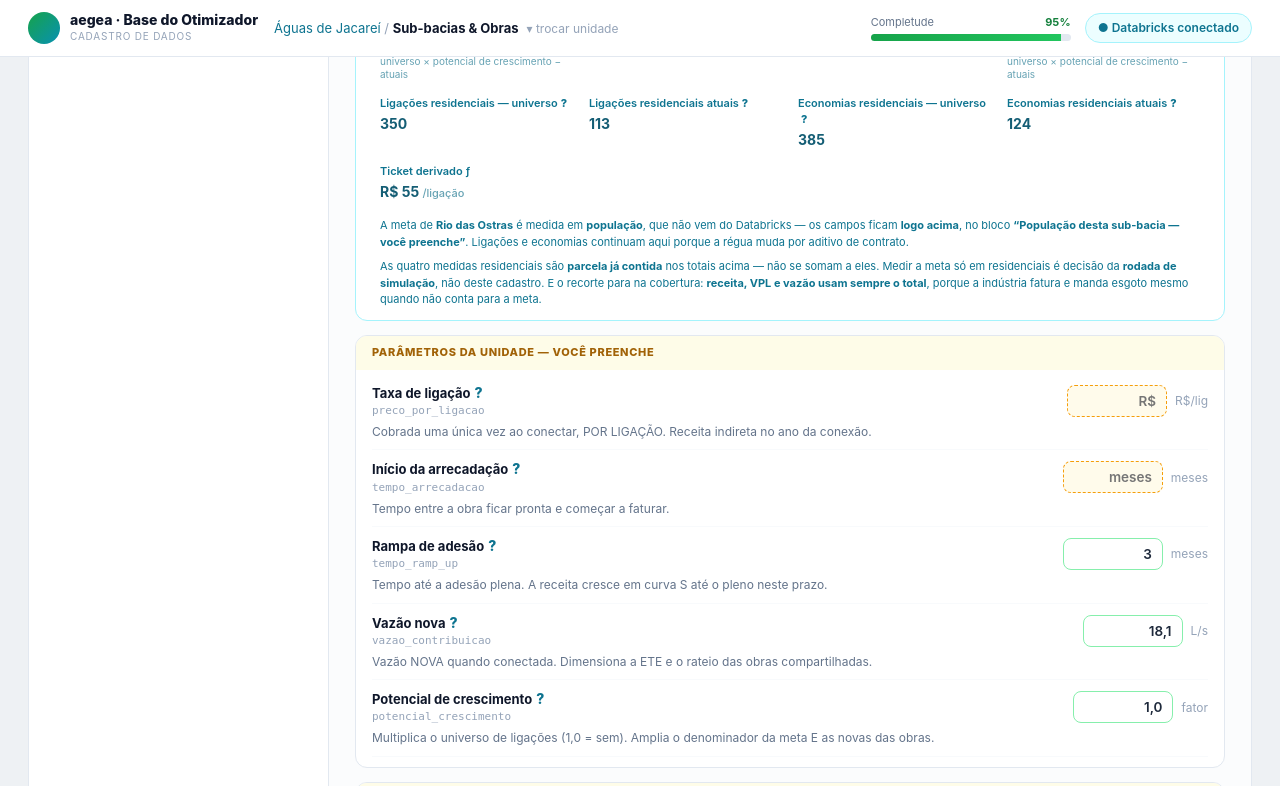
it: o ciclo da auditoria › o que o PUT devolve aparece na tela, sem recarregar
(page scrolled)
In the field labelled "Taxa de ligação": [1117, 401] box [1067,385,1167,417], type "1.000,00"
(page scrolled)
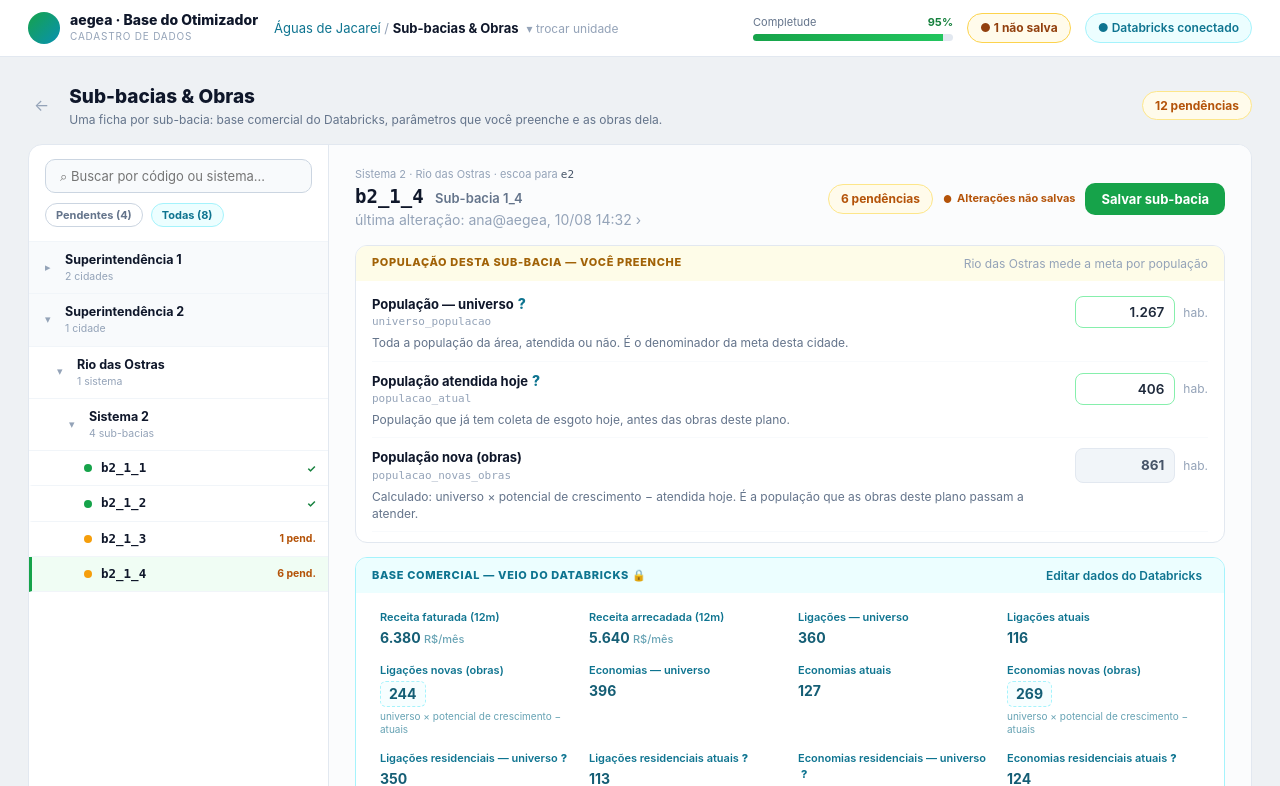
Click the button "Salvar sub-bacia": [1155, 199] box [1086,183,1225,215]
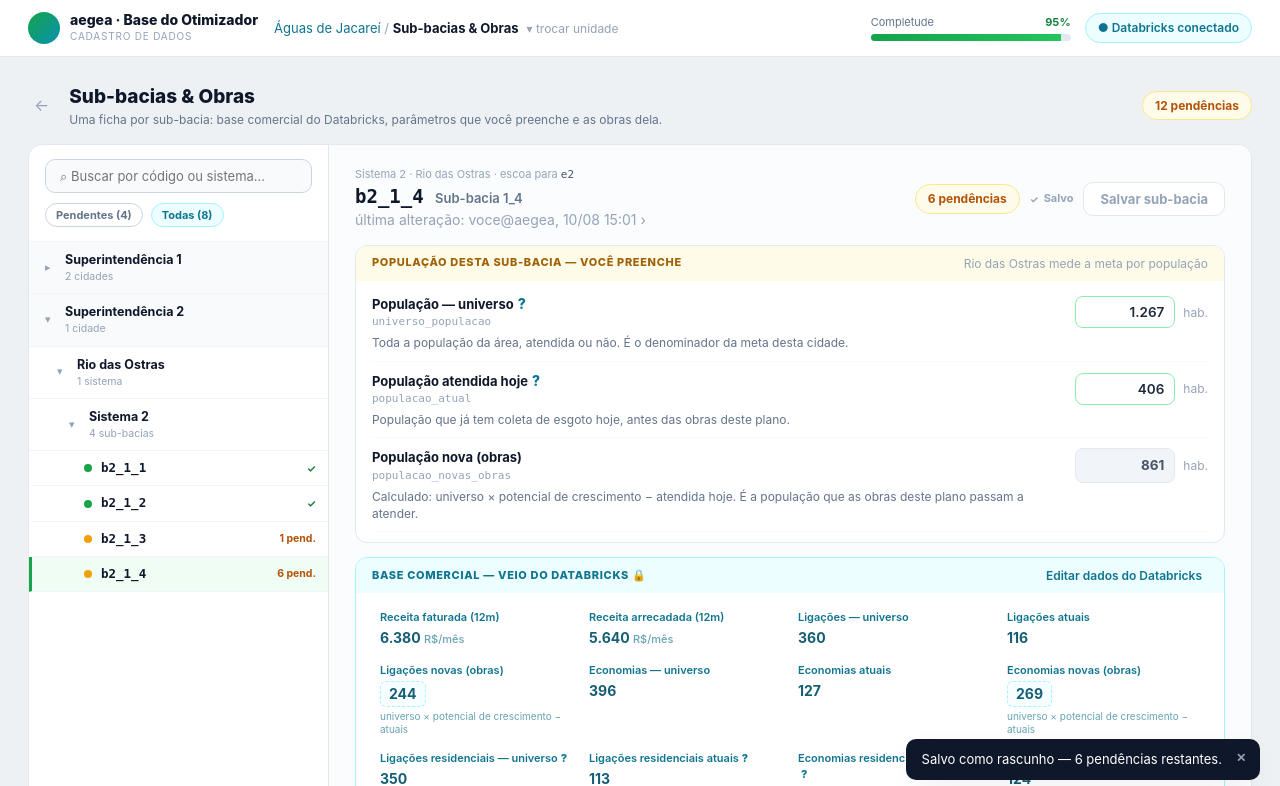
Expected: the button "última alteração: voce@aegea, 10/08 15:01 ›" is shown, [355,210,646,231]
Expected: the button "ana@aegea" is gone
